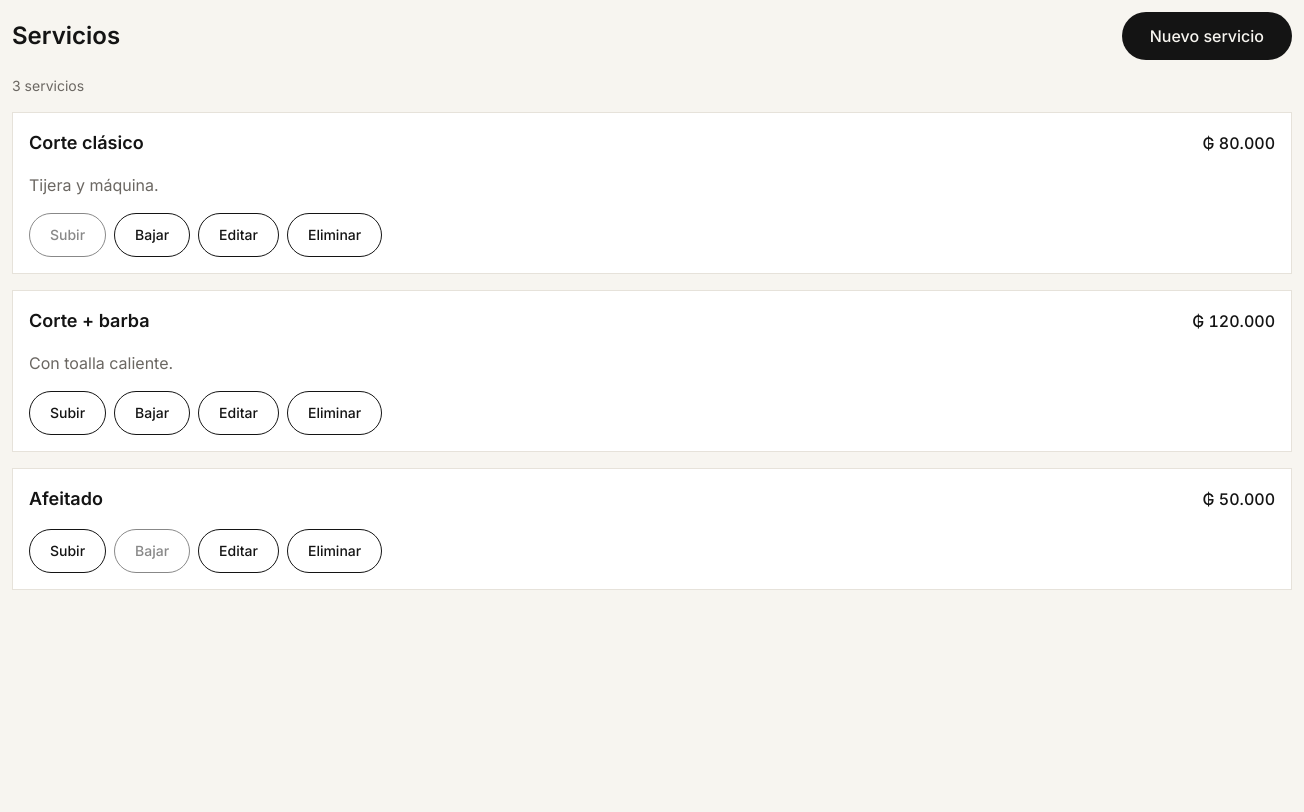
Test case: si la action falla › mover: avisa en la región de estado, no rompe la página y el foco sigue en el botón
Click the button with aria-label "Subir Corte + barba" at (68, 413), box [29,391,106,435]
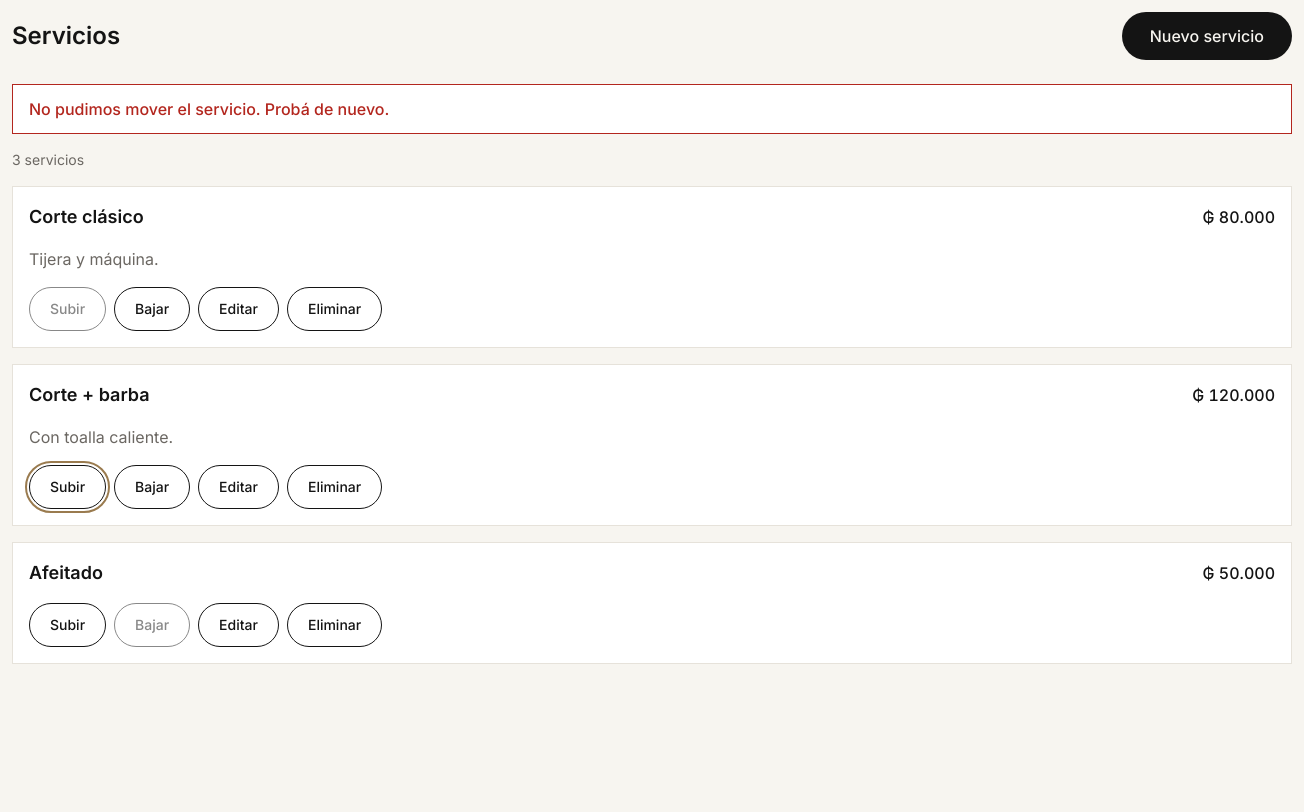
Check: the heading "Servicios" is shown, box [12,20,120,52]
Check: the message reads "No pudimos mover el servicio. Probá de nuevo.", box [29,99,389,119]
